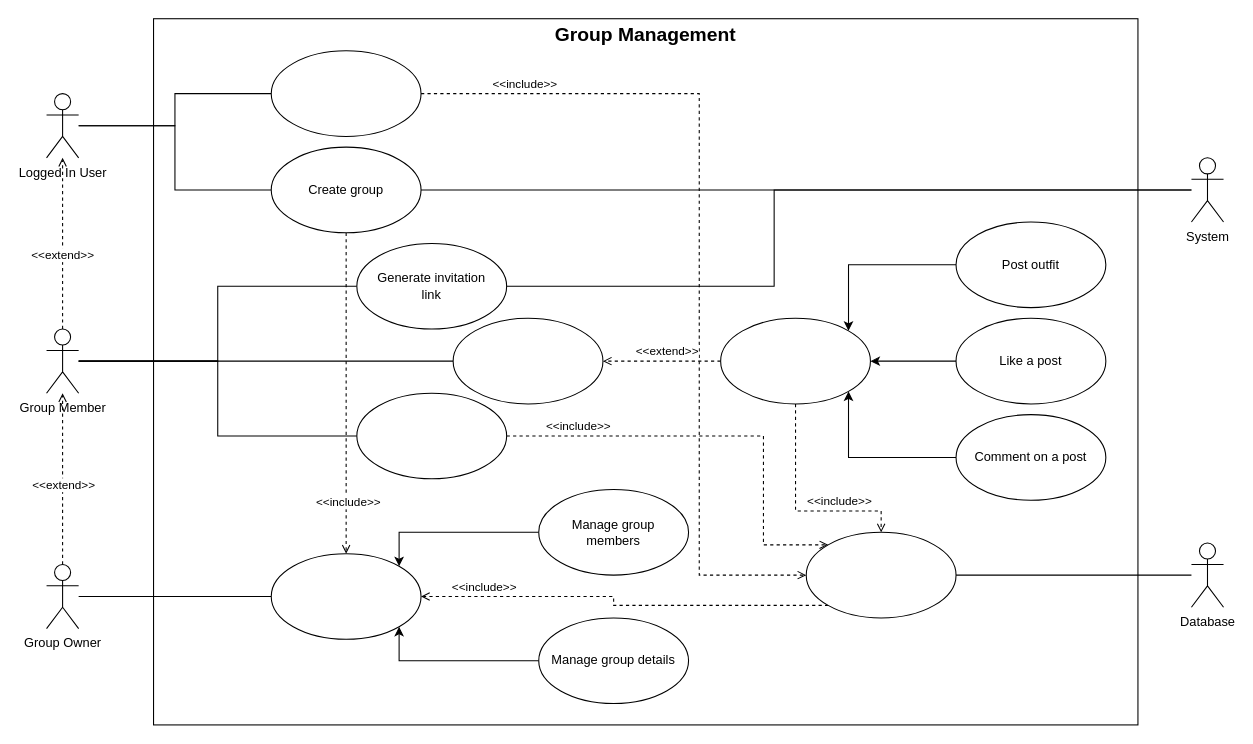
This 1253x744 diagram has some shape labels left out. Here are the shapes that lost their labels. From the top down, the box of each, then its label:
(270, 50, 421, 136): Join group
(452, 317, 603, 404): View group
(720, 317, 870, 404): Interact with group
(356, 392, 507, 479): Leave group
(805, 531, 956, 618): Store new information
(270, 553, 421, 639): Manage group
